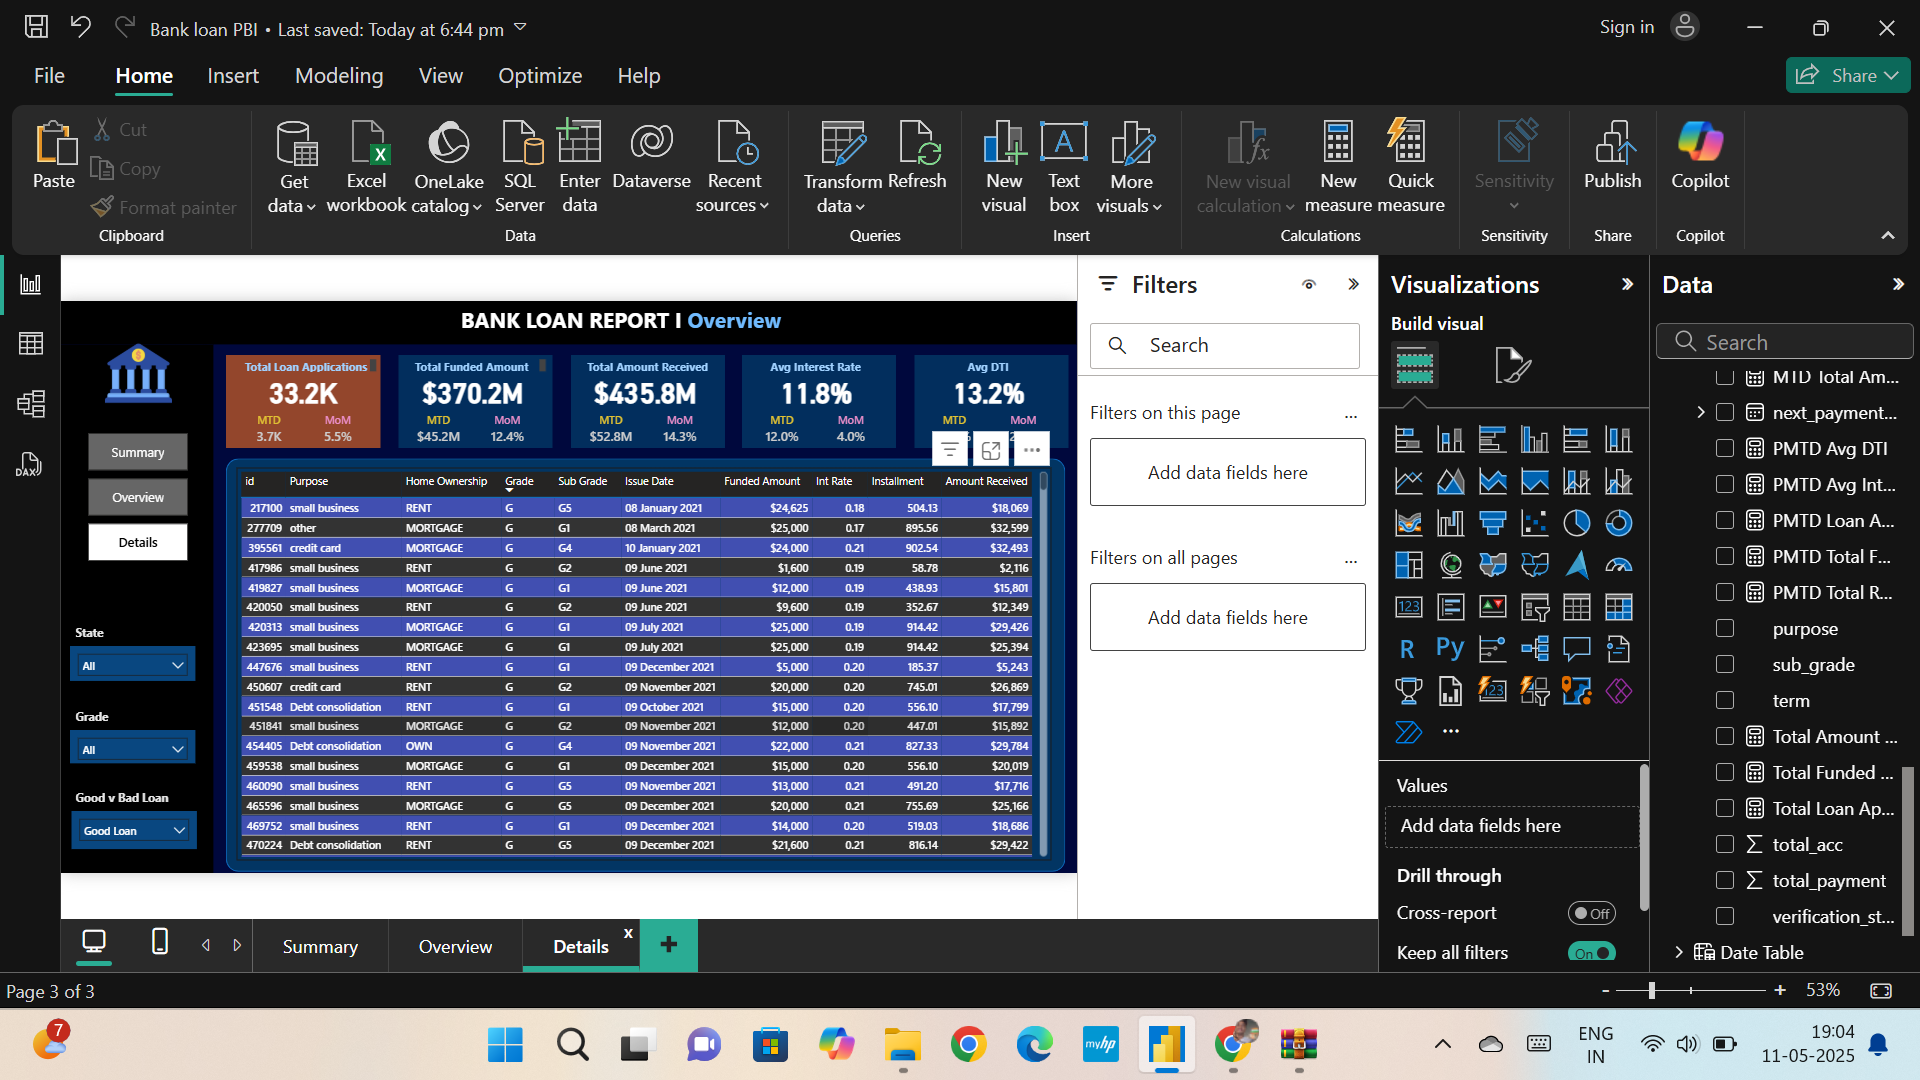

The page's visual inventory and layout, read from the dashboard file:
{"tool":"powerbi","page":{"name":"Details","canvas":[1280,720],"ordinal":2},"visuals":[{"type":"shape","box":[0,0,1279.4,54.8],"z":0},{"type":"shape","box":[207.9,68,194.6,117.2],"z":0,"group":"g1"},{"type":"shape","box":[424.7,68,194.2,117.3],"z":0,"group":"g2"},{"type":"shape","box":[641.6,68.1,194.2,117.3],"z":0,"group":"g3"},{"type":"shape","box":[858.5,68.1,194.2,117.3],"z":0,"group":"g4"},{"type":"shape","box":[1075.3,68.1,194.2,117.3],"z":0,"group":"g5"},{"type":"shape","box":[0,54,192,666],"z":1000},{"type":"card","fields":{"Values":["bank_loan_data.Total Loan Applications"]},"box":[226.8,81.2,156.9,64.3],"z":1000,"group":"g1"},{"type":"card","fields":{"Values":["bank_loan_data.Total Funded Amount"]},"box":[439.8,81.2,156.9,64.3],"z":1000,"group":"g2"},{"type":"card","fields":{"Values":["bank_loan_data.Total Amount Received"]},"box":[656.7,81.3,156.9,64.3],"z":1000,"group":"g3"},{"type":"card","fields":{"Values":["bank_loan_data.Avg Interest Rate"]},"box":[873.6,81.3,156.9,64.3],"z":1000,"group":"g4"},{"type":"card","fields":{"Values":["bank_loan_data.Avg DTI"]},"box":[1090.4,81.3,156.9,64.3],"z":1000,"group":"g5"},{"type":"textbox","box":[498.9,0,461.1,54.8],"z":2000},{"type":"textbox","box":[207.9,68,194.6,26.5],"z":2000,"group":"g1"},{"type":"textbox","box":[420.9,68,194.6,26.5],"z":2000,"group":"g2"},{"type":"textbox","box":[638.5,68,194.6,28.3],"z":2000,"group":"g3"},{"type":"textbox","box":[855,68,194.6,28.3],"z":2000,"group":"g4"},{"type":"textbox","box":[1071.8,68,194.6,28.3],"z":2000,"group":"g5"},{"type":"group","id":"g1","title":"Group 1","box":[207.9,68,194.6,117.2],"z":3000},{"type":"card","title":"MTD","fields":{"Values":["bank_loan_data.MTD Loan Applications"]},"box":[207.9,139.8,107.7,45.4],"z":3000,"group":"g1"},{"type":"card","title":"MTD","fields":{"Values":["bank_loan_data.MTD Funded Amount"]},"box":[420.9,139.8,107.7,45.4],"z":3000,"group":"g2"},{"type":"card","title":"MTD","fields":{"Values":["bank_loan_data.MTD Total Amount Recieved"]},"box":[637.8,139.9,107.7,45.4],"z":3000,"group":"g3"},{"type":"card","title":"MTD","fields":{"Values":["bank_loan_data.MTD Avg Int Rate"]},"box":[854.7,139.9,107.7,45.4],"z":3000,"group":"g4"},{"type":"card","title":"MTD","fields":{"Values":["bank_loan_data.MTD Avg DTI"]},"box":[1071.5,139.9,107.7,45.4],"z":3000,"group":"g5"},{"type":"group","id":"g2","title":"Group 1","box":[420.9,68,198.4,117.2],"z":4000},{"type":"card","title":"MoM","fields":{"Values":["bank_loan_data.MoM Loan Application"]},"box":[294.8,139.8,107.7,45.4],"z":4000,"group":"g1"},{"type":"card","title":"MoM","fields":{"Values":["bank_loan_data.MoM Total Funded Amount"]},"box":[507.8,139.8,107.7,45.4],"z":4000,"group":"g2"},{"type":"card","title":"MoM","fields":{"Values":["bank_loan_data.MoM Total Amount Recieved"]},"box":[724.7,139.9,107.7,45.4],"z":4000,"group":"g3"},{"type":"card","title":"MoM","fields":{"Values":["bank_loan_data.MoM Avg Int Rate"]},"box":[941.6,139.9,107.7,45.4],"z":4000,"group":"g4"},{"type":"card","title":"MoM","fields":{"Values":["bank_loan_data.MoM Avg DTI"]},"box":[1158.4,139.9,107.7,45.4],"z":4000,"group":"g5"},{"type":"group","id":"g3","title":"Group 1","box":[637.8,68,198.4,117.2],"z":5000},{"type":"group","id":"g4","title":"Group 1","box":[854.7,68,198.4,117.2],"z":6000},{"type":"group","id":"g5","title":"Group 1","box":[1071.5,68,198.4,117.2],"z":7000},{"type":"slicer","fields":{"Values":["bank_loan_data.address_state"]},"box":[12,434,158,44],"z":8000},{"type":"textbox","box":[14,402,64,32],"z":9000},{"type":"slicer","fields":{"Values":["bank_loan_data.grade"]},"box":[12,540,158,42],"z":10000},{"type":"textbox","box":[14,508,78,32],"z":11000},{"type":"slicer","fields":{"Values":["bank_loan_data.Good v Bad Loan"]},"box":[14,642,158,48],"z":12000},{"type":"textbox","box":[13.2,610.4,156.9,32.1],"z":13000},{"type":"shape","box":[208.2,198.4,1057.3,520.5],"z":16000},{"type":"tableEx","fields":{"Values":["bank_loan_data.id","bank_loan_data.purpose","bank_loan_data.home_ownership","bank_loan_data.grade","bank_loan_data.sub_grade","bank_loan_data.issue_date","bank_loan_data.Total Funded Amount","Sum(bank_loan_data.int_rate)","Sum(bank_loan_data.installment)","bank_loan_data.Total Amount Received"]},"box":[221.1,209.8,1026.1,495.1],"z":17000},{"type":"image","box":[47.2,35.9,100.2,109.6],"z":17001},{"type":"pageNavigator","box":[34,166.3,126.6,162.5],"z":17002}]}

Visuals, with their boxes on the page's 1280x720 design canvas (x1, y1, x2, y2). These are canvas units, not pixel positions in the 1920x1080 screenshot, which may show the page scaled, cropped or inside an application window:
shape: bbox=[0, 0, 1279, 55]
shape: bbox=[208, 68, 402, 185]
shape: bbox=[425, 68, 619, 185]
shape: bbox=[642, 68, 836, 185]
shape: bbox=[858, 68, 1053, 185]
shape: bbox=[1075, 68, 1270, 185]
shape: bbox=[0, 54, 192, 720]
card - bank_loan_data.Total Loan Applications: bbox=[227, 81, 384, 146]
card - bank_loan_data.Total Funded Amount: bbox=[440, 81, 597, 146]
card - bank_loan_data.Total Amount Received: bbox=[657, 81, 814, 146]
card - bank_loan_data.Avg Interest Rate: bbox=[874, 81, 1030, 146]
card - bank_loan_data.Avg DTI: bbox=[1090, 81, 1247, 146]
textbox: bbox=[499, 0, 960, 55]
textbox: bbox=[208, 68, 402, 94]
textbox: bbox=[421, 68, 616, 94]
textbox: bbox=[638, 68, 833, 96]
textbox: bbox=[855, 68, 1050, 96]
textbox: bbox=[1072, 68, 1266, 96]
"Group 1" group: bbox=[208, 68, 402, 185]
"MTD" card: bbox=[208, 140, 316, 185]
"MTD" card: bbox=[421, 140, 529, 185]
"MTD" card: bbox=[638, 140, 746, 185]
"MTD" card: bbox=[855, 140, 962, 185]
"MTD" card: bbox=[1072, 140, 1179, 185]
"Group 1" group: bbox=[421, 68, 619, 185]
"MoM" card: bbox=[295, 140, 402, 185]
"MoM" card: bbox=[508, 140, 616, 185]
"MoM" card: bbox=[725, 140, 832, 185]
"MoM" card: bbox=[942, 140, 1049, 185]
"MoM" card: bbox=[1158, 140, 1266, 185]
"Group 1" group: bbox=[638, 68, 836, 185]
"Group 1" group: bbox=[855, 68, 1053, 185]
"Group 1" group: bbox=[1072, 68, 1270, 185]
slicer - bank_loan_data.address_state: bbox=[12, 434, 170, 478]
textbox: bbox=[14, 402, 78, 434]
slicer - bank_loan_data.grade: bbox=[12, 540, 170, 582]
textbox: bbox=[14, 508, 92, 540]
slicer - bank_loan_data.Good v Bad Loan: bbox=[14, 642, 172, 690]
textbox: bbox=[13, 610, 170, 642]
shape: bbox=[208, 198, 1266, 719]
tableEx - bank_loan_data.id x bank_loan_data.purpose: bbox=[221, 210, 1247, 705]
image: bbox=[47, 36, 147, 146]
pageNavigator: bbox=[34, 166, 161, 329]
